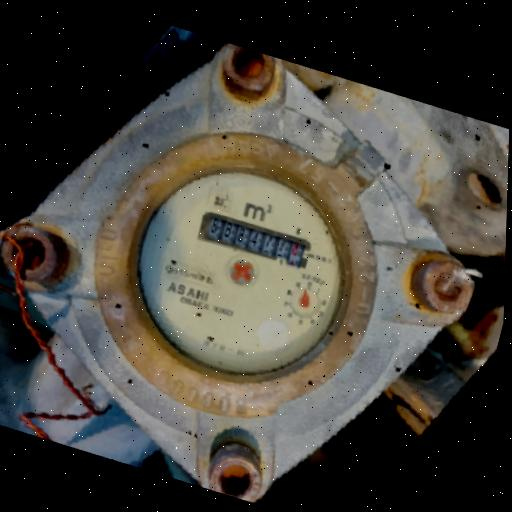4: (249, 227, 263, 250)
7: (262, 231, 277, 254), (275, 236, 290, 259)
8: (287, 240, 302, 267), (206, 216, 223, 239), (221, 220, 236, 243), (235, 224, 249, 247)
border_water_meter_number: (196, 207, 315, 273)
